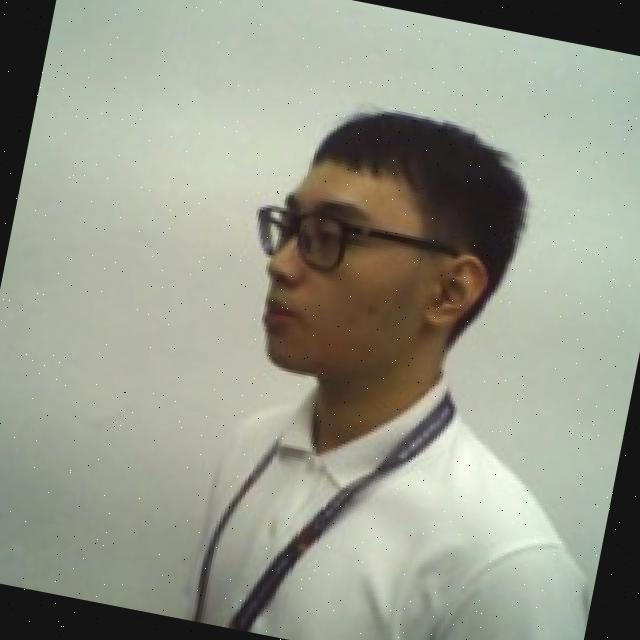no_gloves: (278, 89, 548, 268)
no_hairnet: (244, 220, 491, 413)
